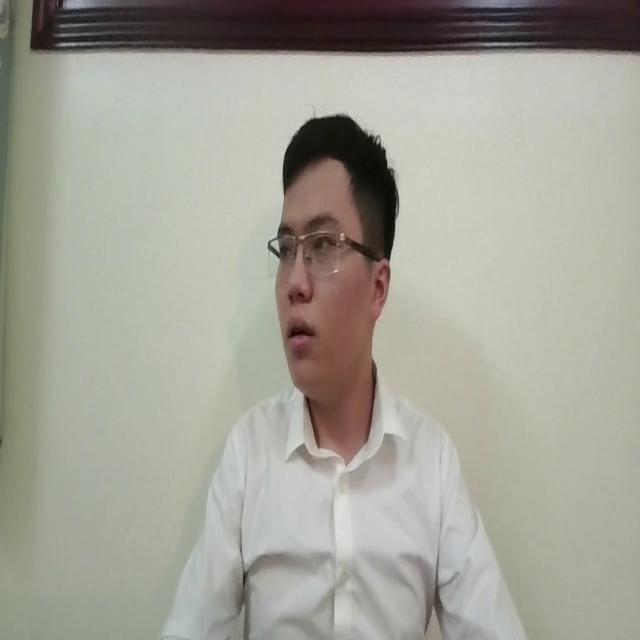student: (150, 113, 530, 640)
